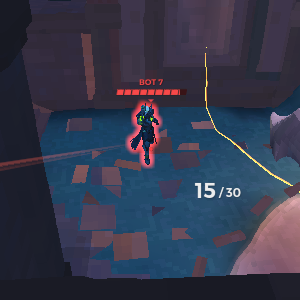model: (132, 102, 161, 166)
